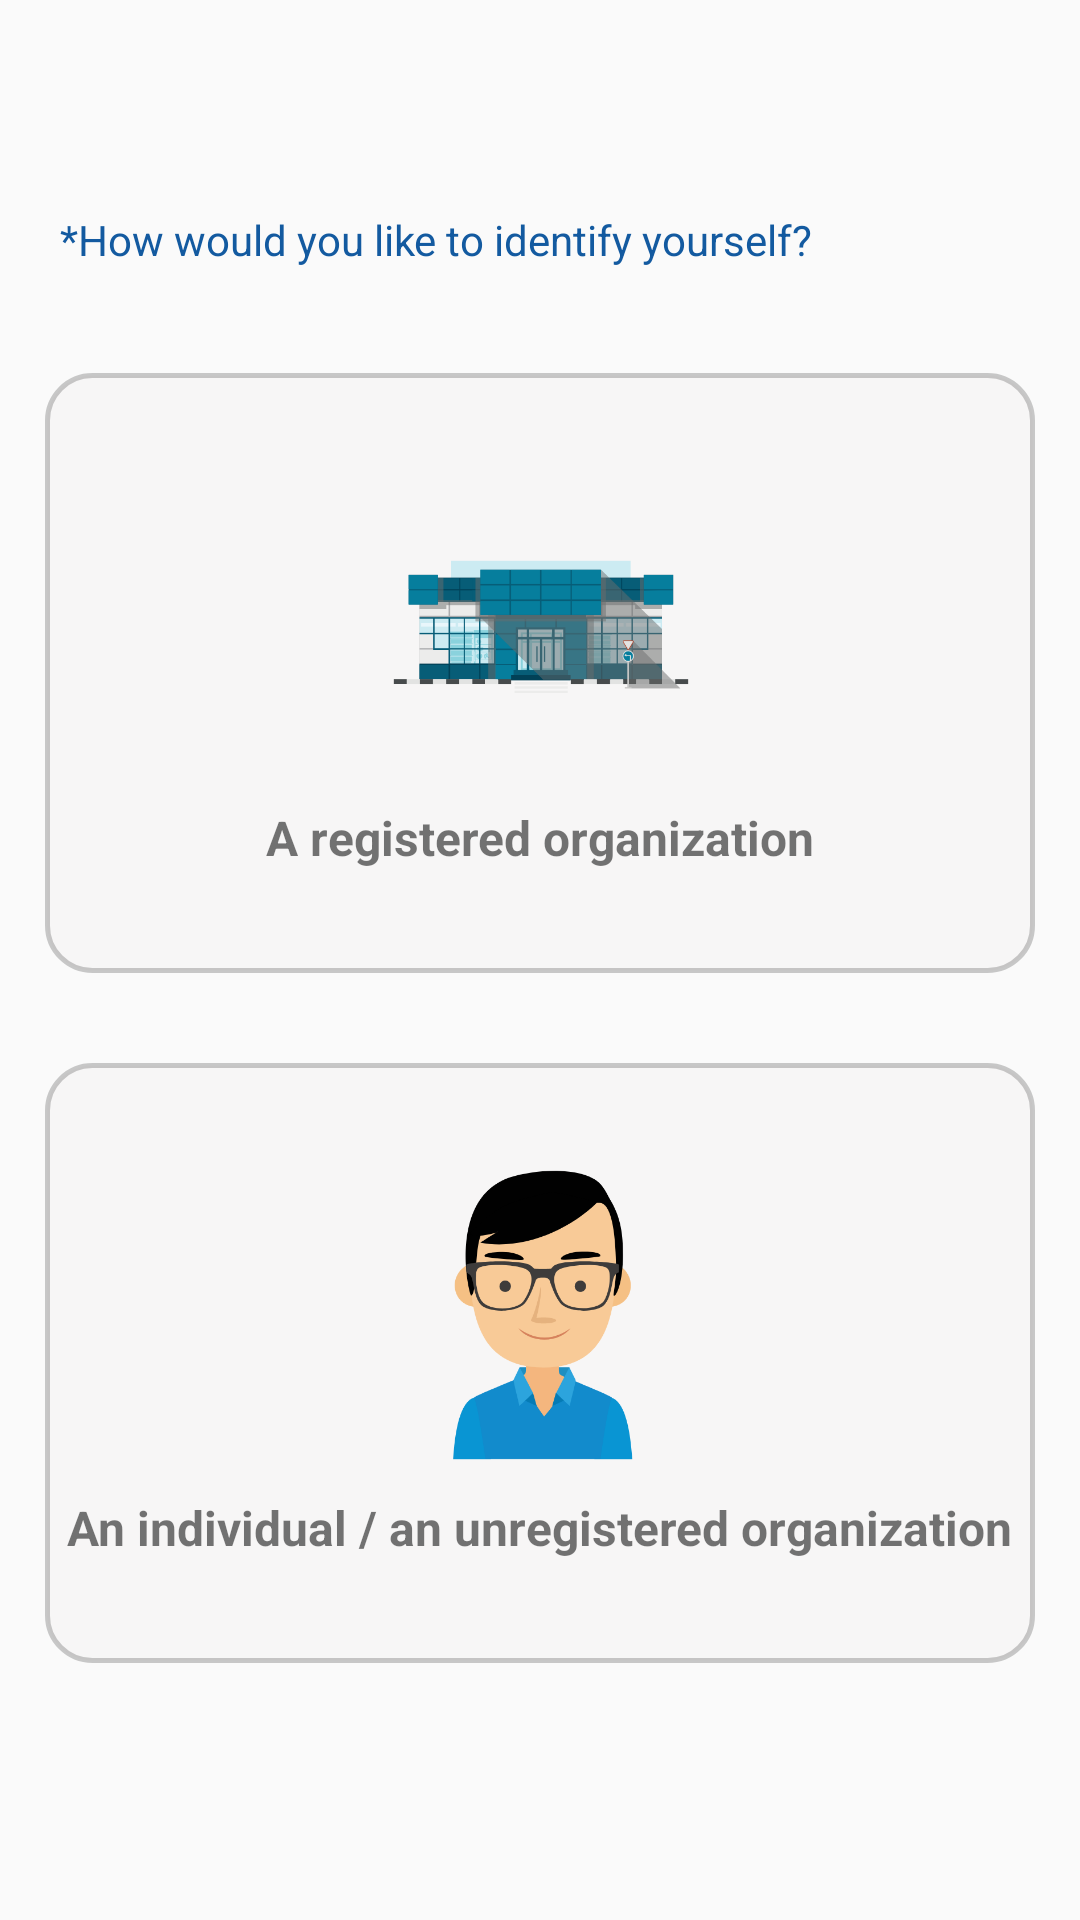

Point at icon controls on the screen. Image size 1080px×1920px, points as (x=x, y=y).
company: (x=541, y=625)
